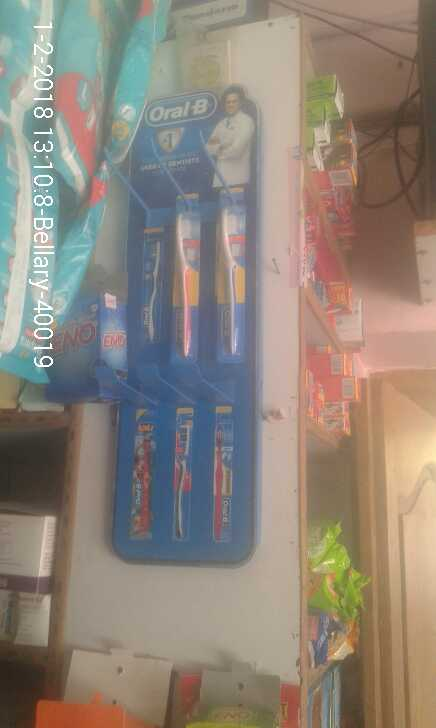oralb: (212, 190, 264, 363), (168, 194, 205, 357)
